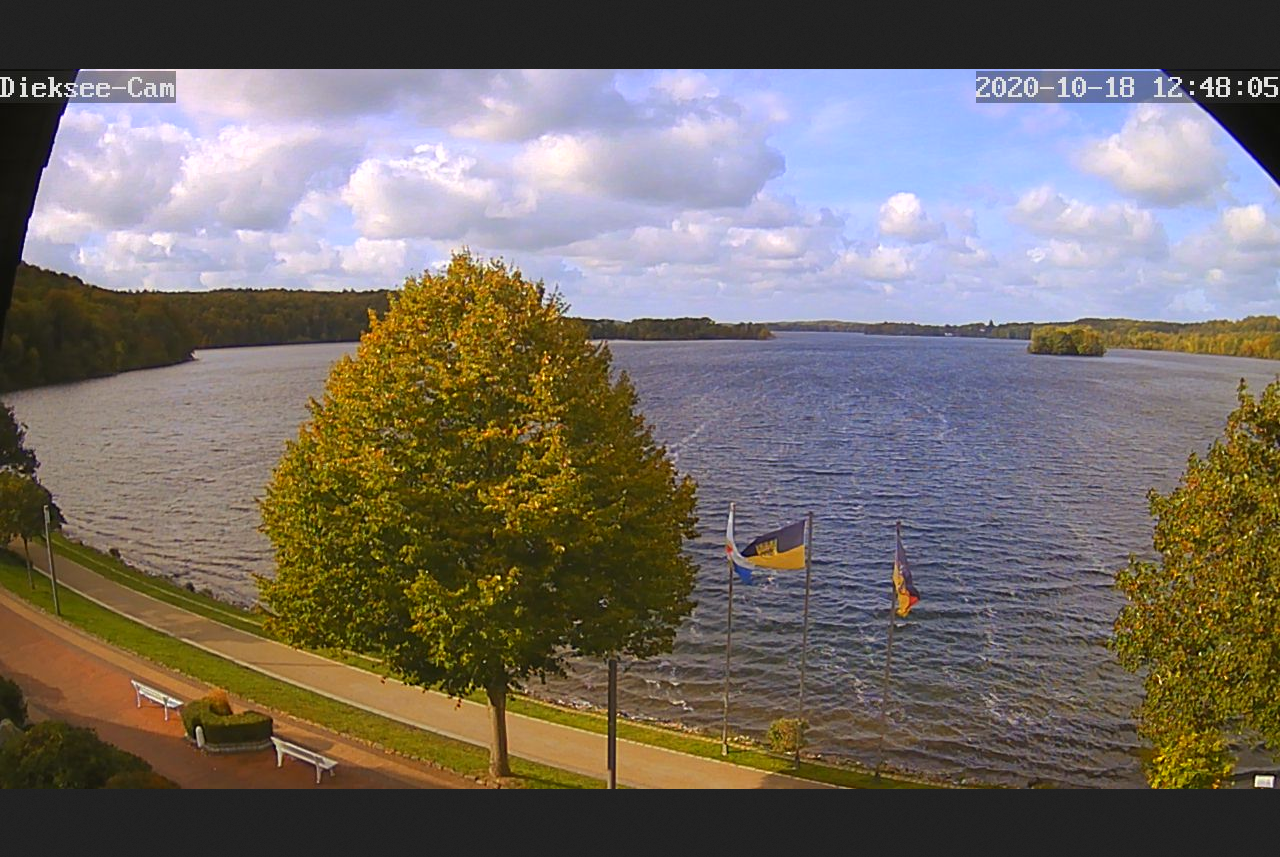maybe: (892, 540, 917, 619)
yes: (738, 522, 809, 573), (724, 505, 751, 574)
